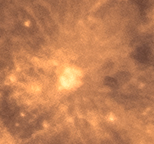crater: (30, 19, 123, 117)
